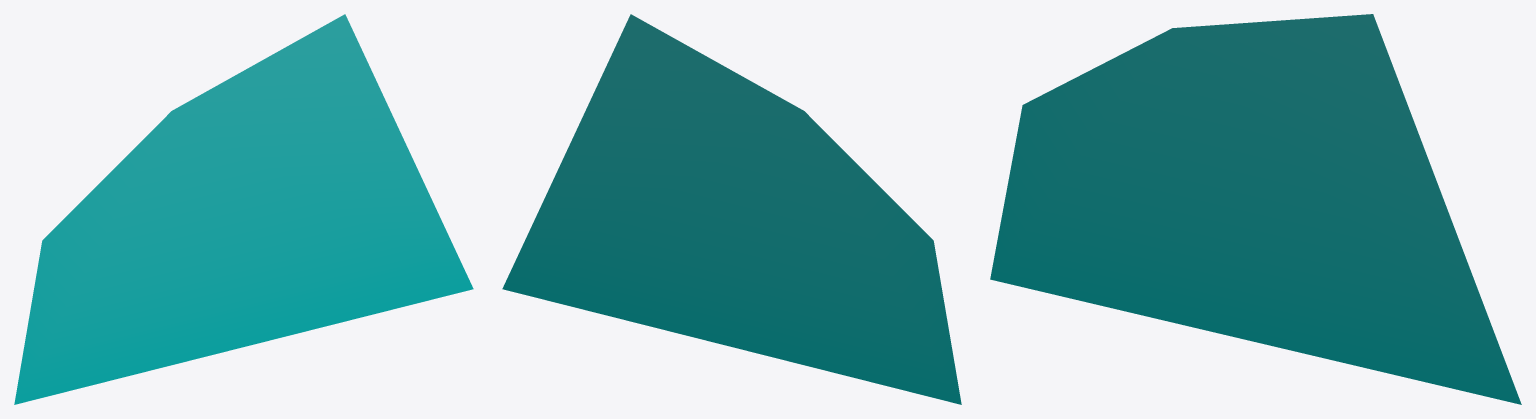
File: Wild_Grass_vczndjqja_Mid_vczndjqja_VarB_LOD3.fbx
3 views of the same model, side by side, from view 1: azimuth 30°, elevation 25°; view 2: azimuth 150°, elevation 25°; view 3: azimuth 330°, elevation 25° (orthographic). The views are drawn at different scales.
Visible parts, largest first — view 1: _ov2c_VarB_LOD4; view 2: _ov2c_VarB_LOD4; view 3: _ov2c_VarB_LOD4.
Boxes of the visible parts, <box> form: _ov2c_VarB_LOD4: <box>14,14,473,404</box>; _ov2c_VarB_LOD4: <box>502,14,961,404</box>; _ov2c_VarB_LOD4: <box>990,14,1521,404</box>.
Bounding box in the file's own units: 64.29 × 41.48 × 0.
